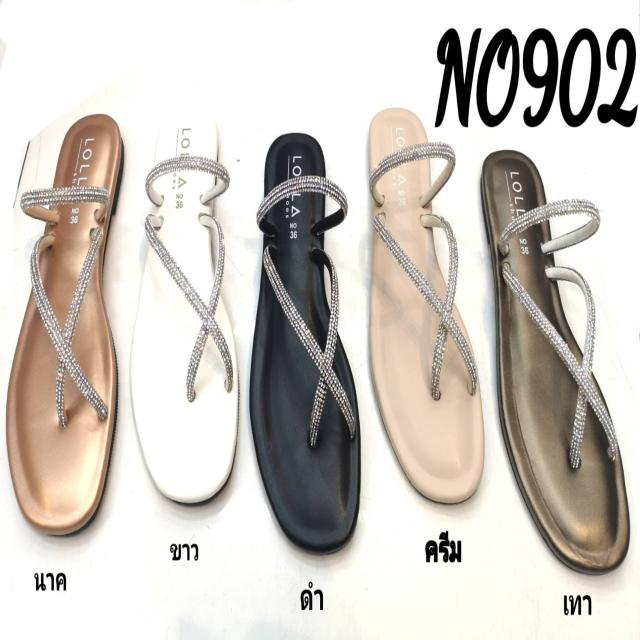black: (250, 128, 362, 549)
cream: (361, 108, 484, 500)
grey: (482, 155, 631, 570)
nak: (6, 103, 120, 530)
white: (130, 111, 236, 501)
